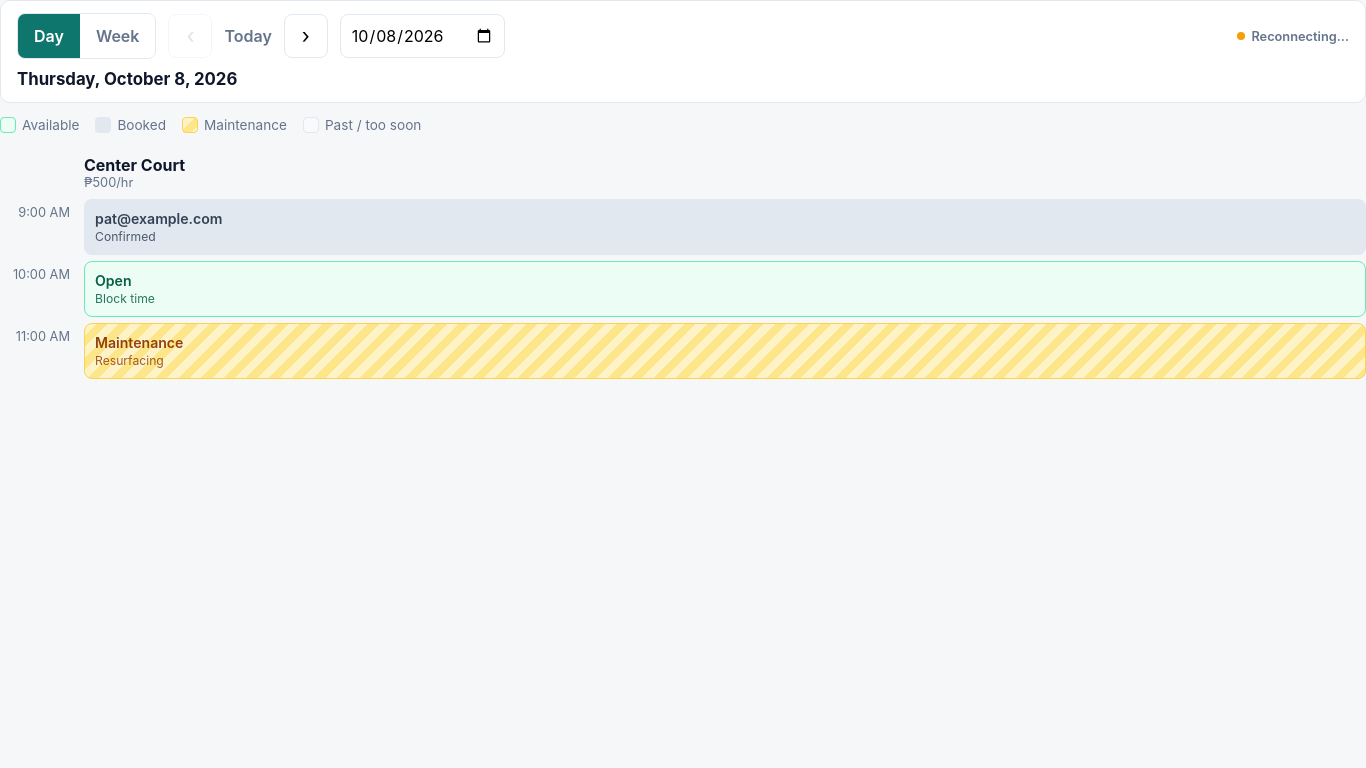
Test: owner view › shows a blocking error from the server
Click the button "Open Block time".
click(113, 280)  # box [84,261,1365,317]
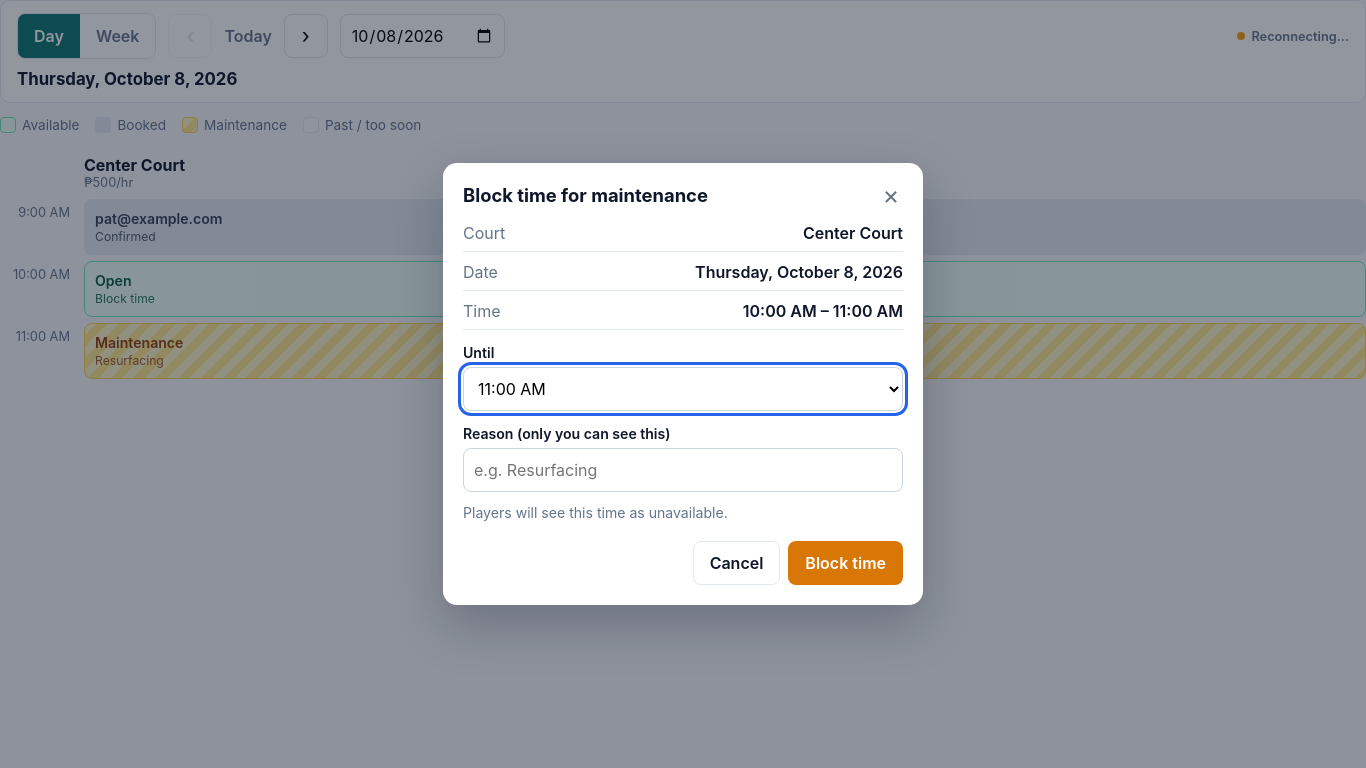
Click the button "Block time".
click(846, 563)  # box [788,541,903,585]
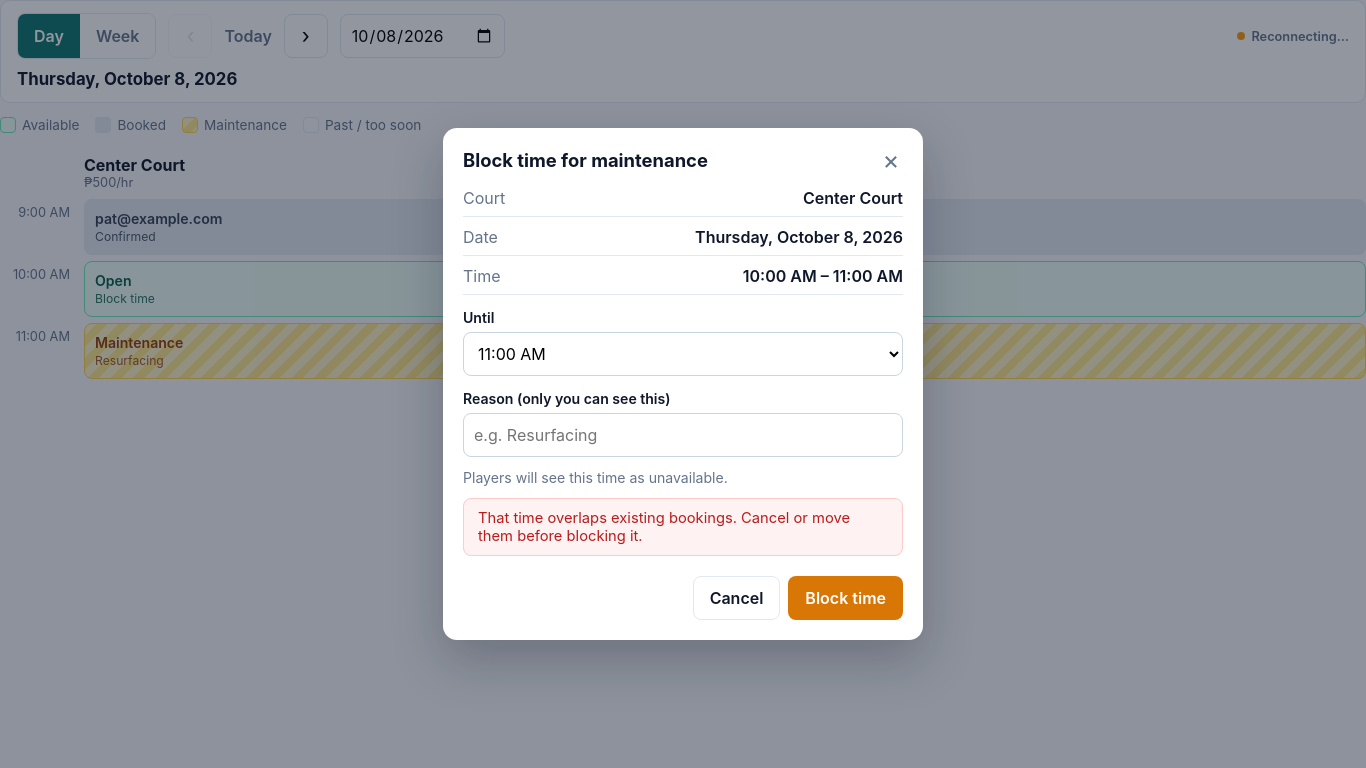
Expected: the message shows "overlaps existing bookings", [478,509,850,545]
